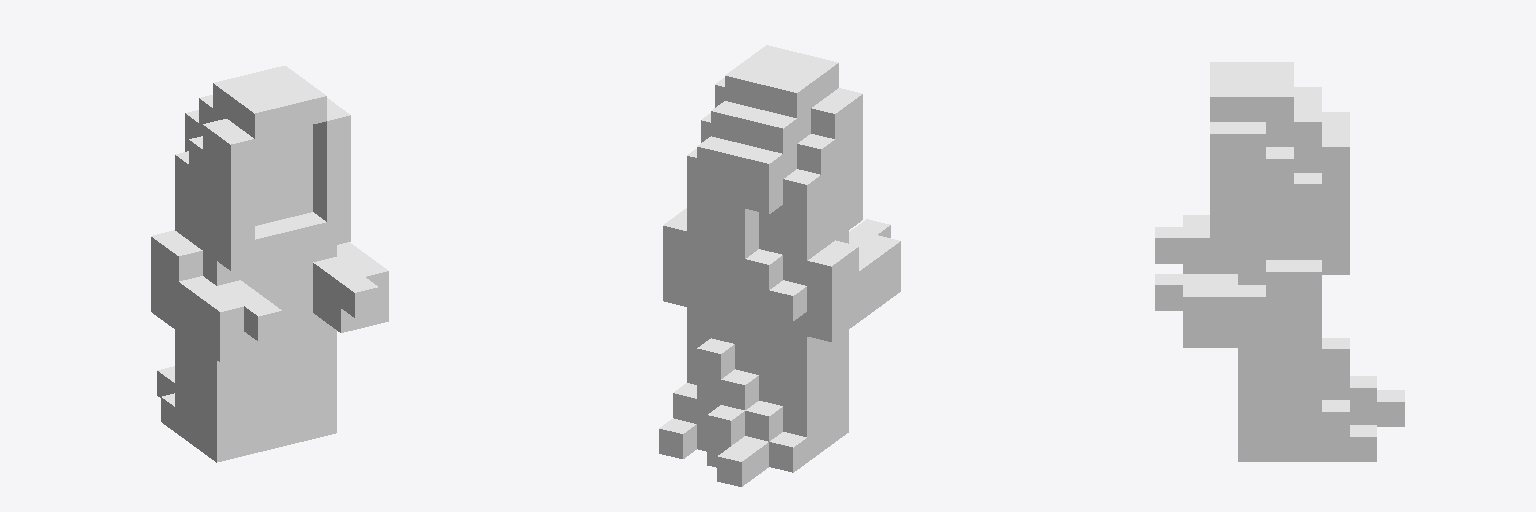
Rendered from MadWizard.obj.
The picture shows the model from 3 angles: view 1: azimuth 30°, elevation 25°; view 2: azimuth 150°, elevation 25°; view 3: azimuth 270°, elevation 25°; orthographic projection.
Parts seen in each view (by area): view 1: object 1; view 2: object 1; view 3: object 1.
Part boxes in pixels (bbox=[...]): object 1: bbox=[151, 66, 388, 462]; object 1: bbox=[659, 45, 900, 486]; object 1: bbox=[1155, 62, 1404, 461].
Size of the model in its own units: 0.7 by 1.4 by 0.9.